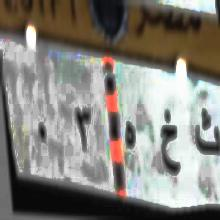0: (38, 115, 48, 148)
3: (74, 100, 92, 162)
haa: (121, 110, 139, 163)
khaa: (158, 106, 183, 183)
thaa: (195, 105, 220, 163)
